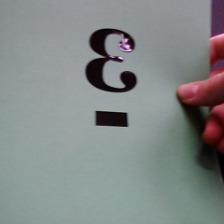green3: (82, 24, 141, 134)
